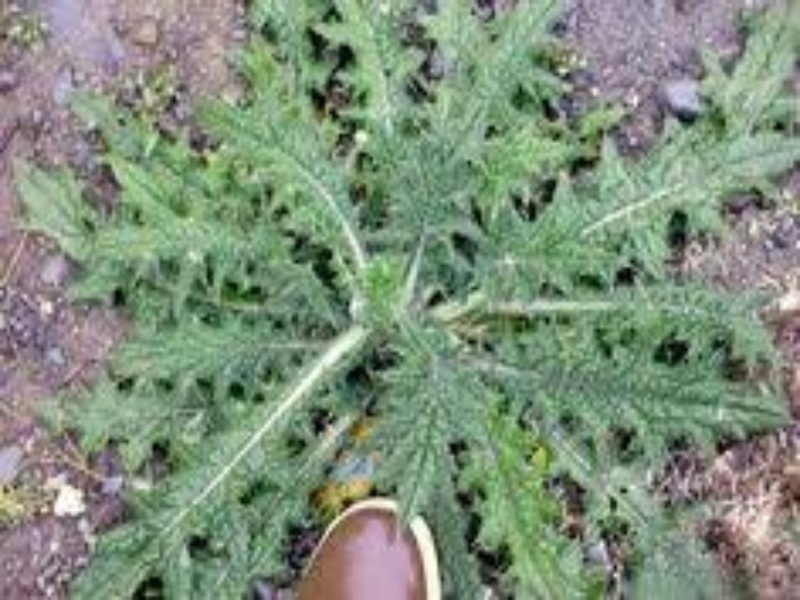weed: (112, 30, 720, 538)
